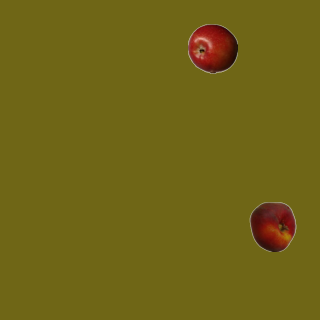Apple Braeburn: (187, 23, 237, 73)
Nectarine Flat: (247, 201, 297, 251)
